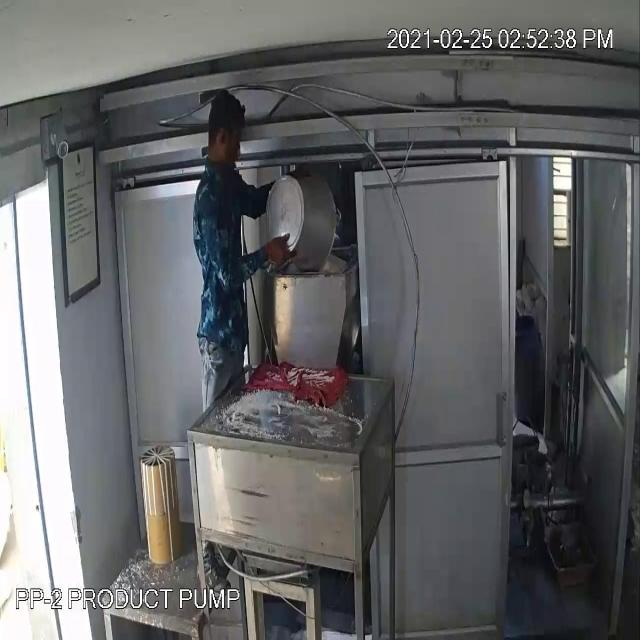no-helmet: (202, 84, 248, 138)
